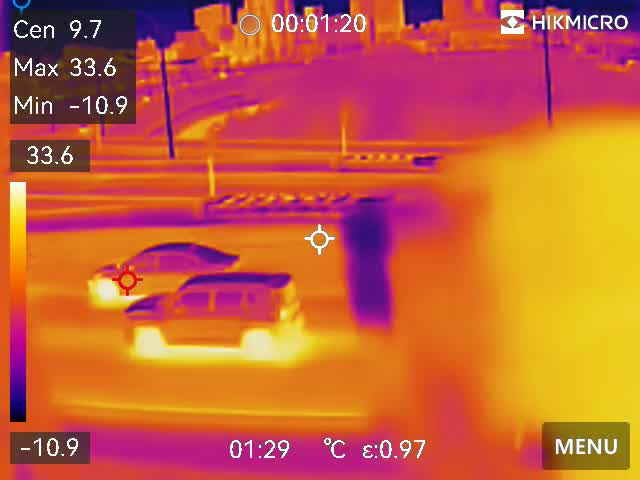largeCar: (115, 274, 306, 355)
smallCar: (80, 237, 241, 294)
